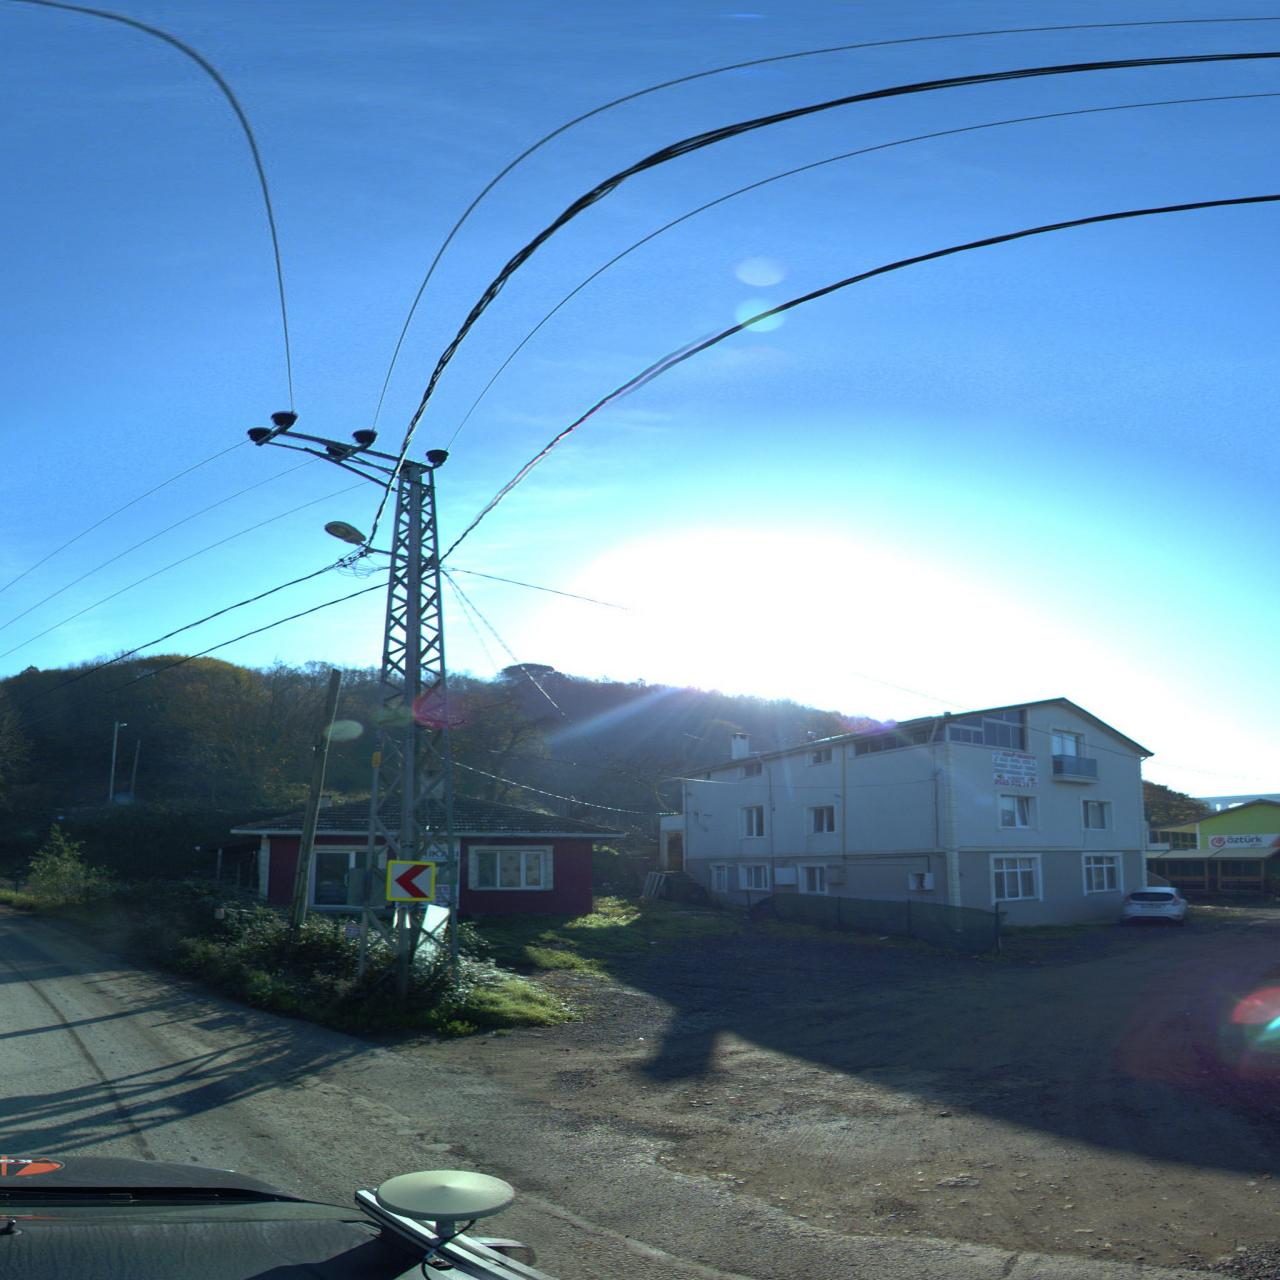Utility Pole Information Plate: (368, 749, 384, 770)
